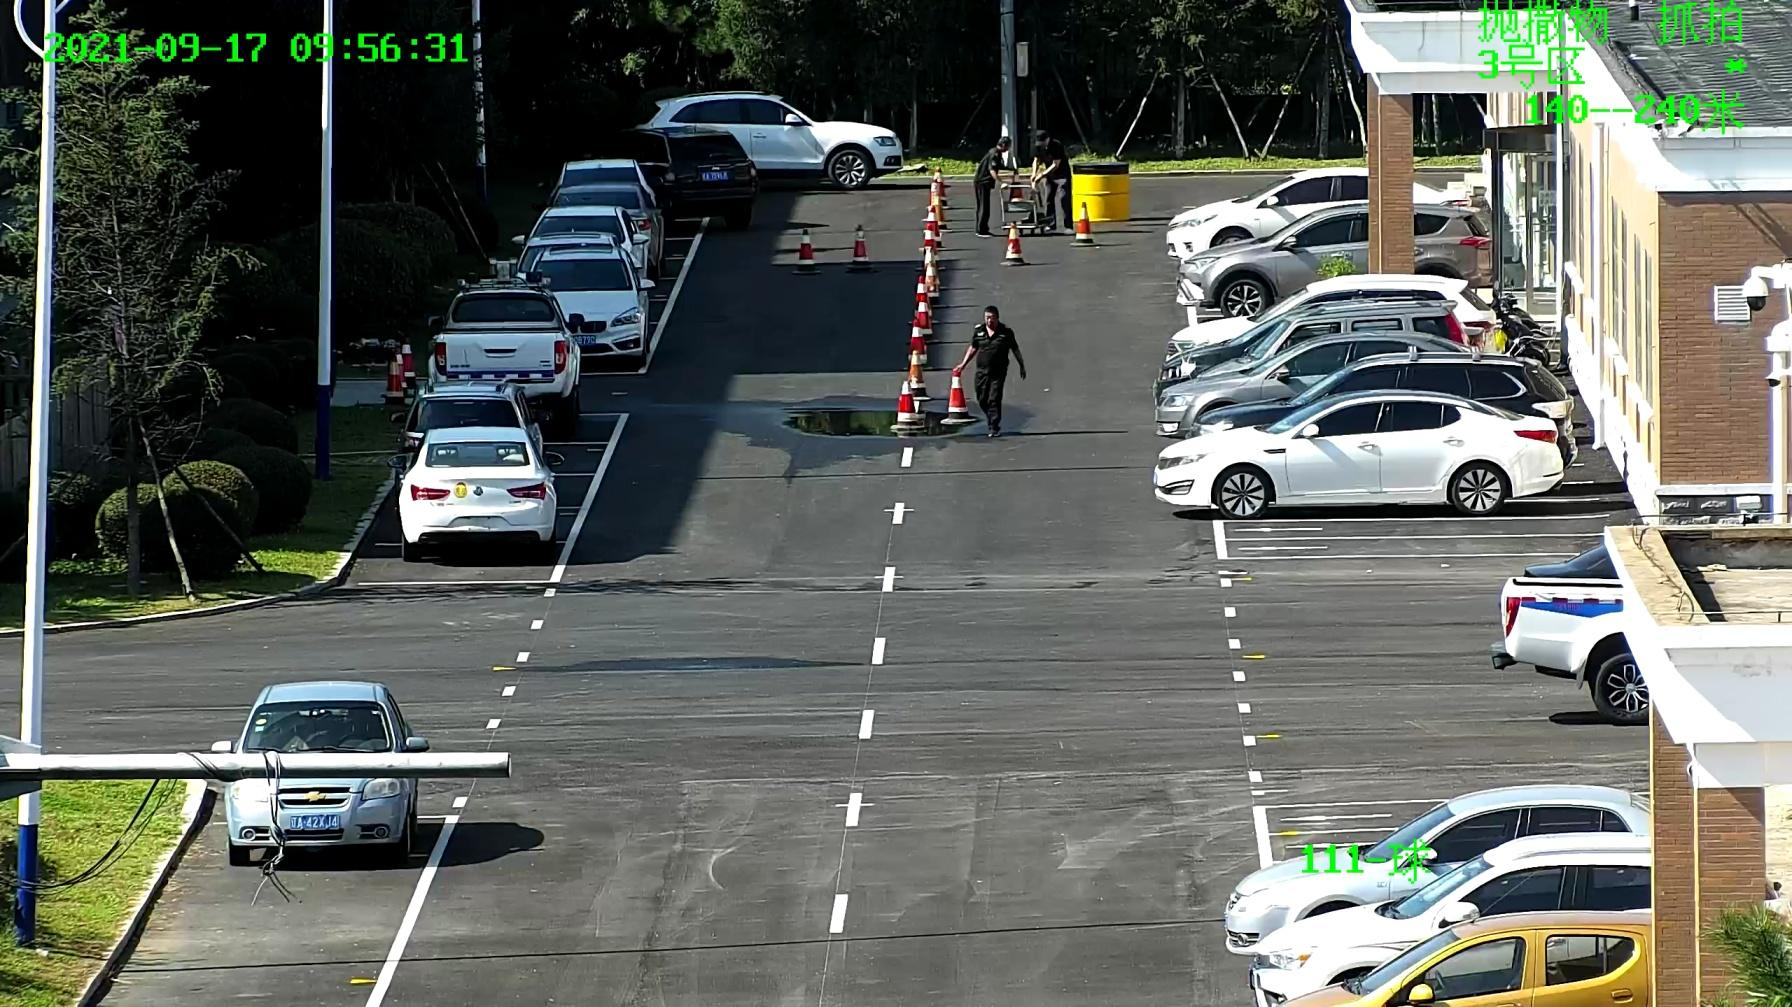cone_barrel: (942, 368, 972, 424), (902, 319, 931, 370), (893, 380, 920, 433), (997, 220, 1029, 263), (383, 339, 405, 400), (845, 223, 873, 270), (1070, 200, 1097, 246), (395, 337, 415, 399), (791, 228, 820, 270), (905, 349, 928, 399), (915, 225, 940, 268), (911, 275, 932, 321), (916, 298, 936, 343), (1005, 168, 1028, 205)
